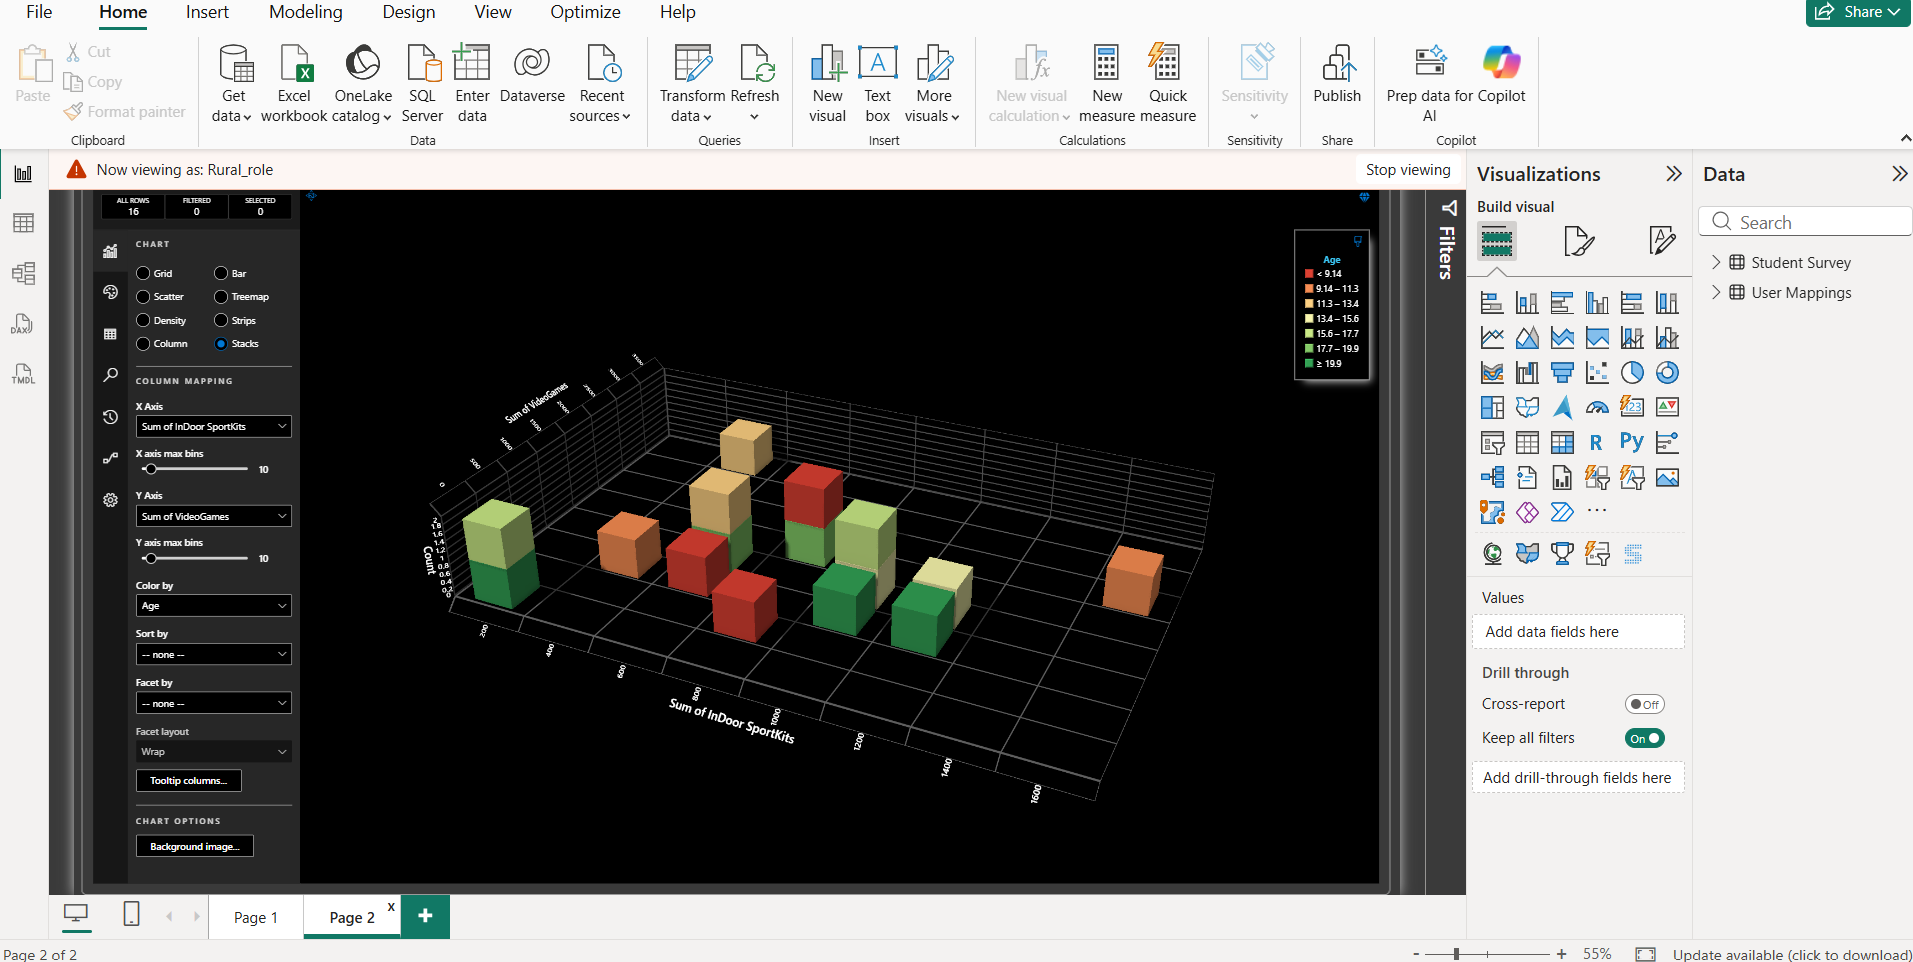

This screenshot's page, from the dashboard's own definition file:
{"tool":"powerbi","page":{"name":"Page 2","canvas":[1920,1080],"ordinal":1},"visuals":[{"type":"SandDance201929976D117A654D0BAB8E96507442D80B","fields":{"values":["Sum(Student Survey.InDoor SportKits)","Sum(Student Survey.VideoGames)","Student Survey.Age"]},"box":[10.9,0,1894.7,1080.4],"z":0}]}

Visuals, with their boxes on the page's 1920x1080 design canvas (x1, y1, x2, y2). These are canvas units, not pixel positions in the 1913x962 screenshot, which may show the page scaled, cropped or inside an application window:
SandDance201929976D117A654D0BAB8E96507442D80B - Sum(Student Survey.InDoor SportKits) x Sum(Student Survey.VideoGames): crop(11, 0, 1906, 1080)
